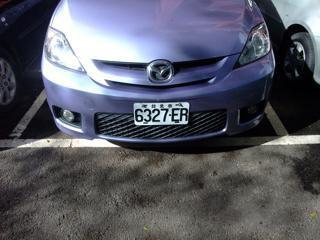plate: (133, 100, 190, 127)
